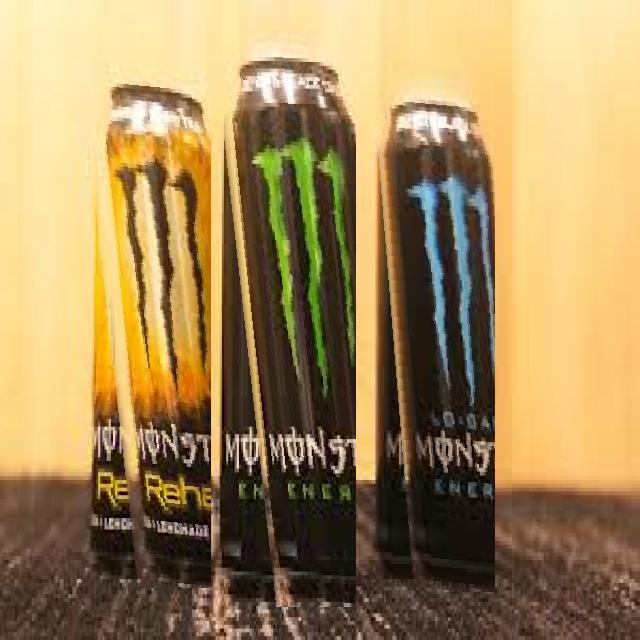Cans: (214, 46, 356, 607), (78, 48, 211, 588), (372, 77, 495, 592)
